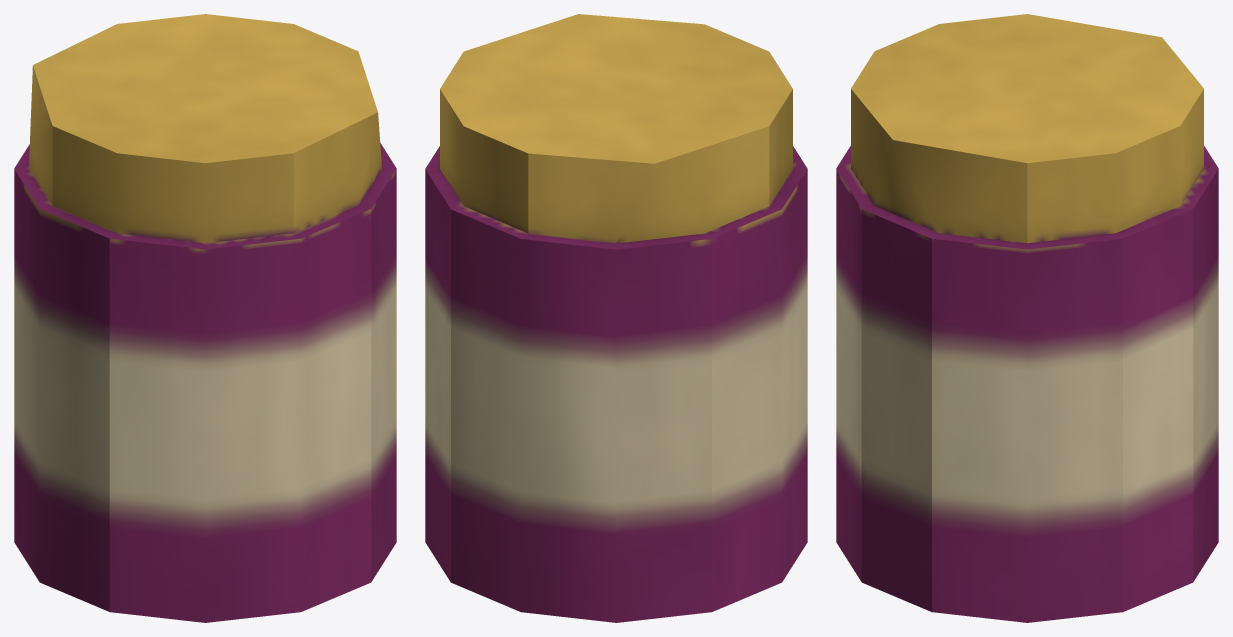
Rendered from Item_Jam.fbx.
3 renders of one model, left to right at view 1: azimuth 30°, elevation 25°; view 2: azimuth 150°, elevation 25°; view 3: azimuth 270°, elevation 25°, orthographic.
Parts seen in each view (by area): view 1: Item_Jam; view 2: Item_Jam; view 3: Item_Jam.
Boxes of the visible parts, x1=… form: Item_Jam: x1=14, y1=14, x2=396, y2=622; Item_Jam: x1=425, y1=14, x2=807, y2=622; Item_Jam: x1=836, y1=14, x2=1218, y2=622.
Size of the model in its own units: 0.13 by 0.17 by 0.13.
1 material, 1 textured.
